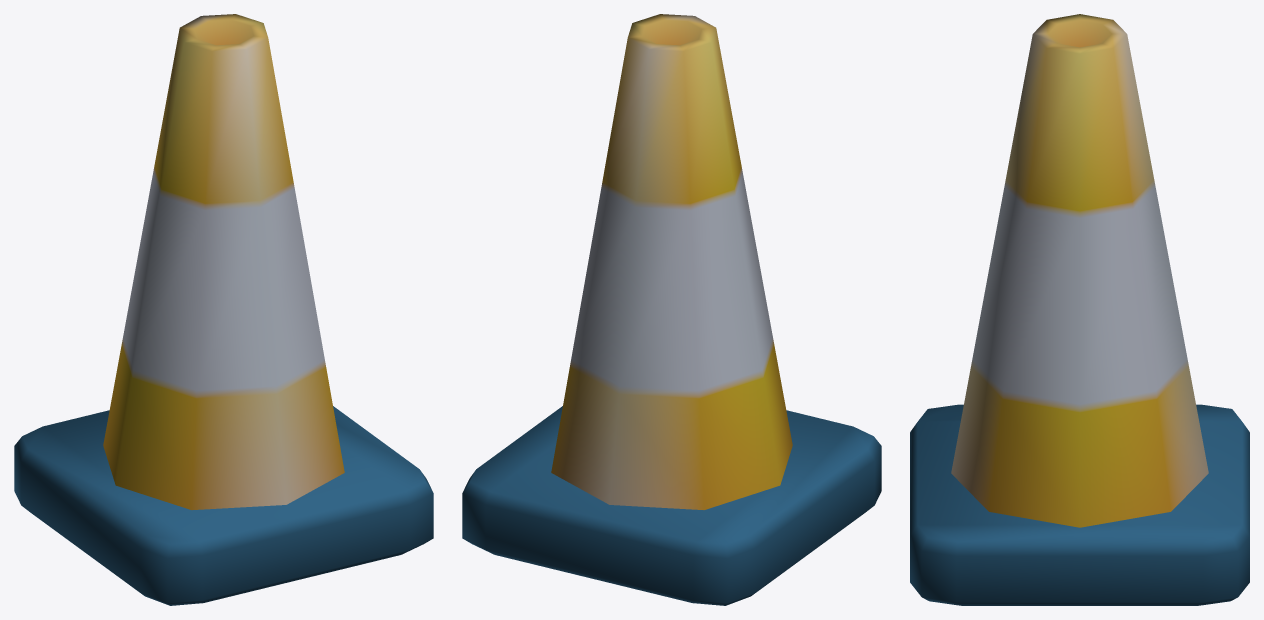
Rendered from RoadWorkConeNight.glb.
The picture shows the model from 3 angles, left to right: view 1: azimuth 30°, elevation 25°; view 2: azimuth 150°, elevation 25°; view 3: azimuth 270°, elevation 25°; orthographic projection. The views are drawn at different scales.
Visible parts, largest first — view 1: RoadWorkConeNight; view 2: RoadWorkConeNight; view 3: RoadWorkConeNight.
Part boxes in pixels (x1,y1,x2,y2): RoadWorkConeNight: (14, 14, 433, 605); RoadWorkConeNight: (462, 14, 881, 605); RoadWorkConeNight: (910, 14, 1249, 605).
Bounding box in the file's own units: 0.6196 × 1.01 × 0.6196.
